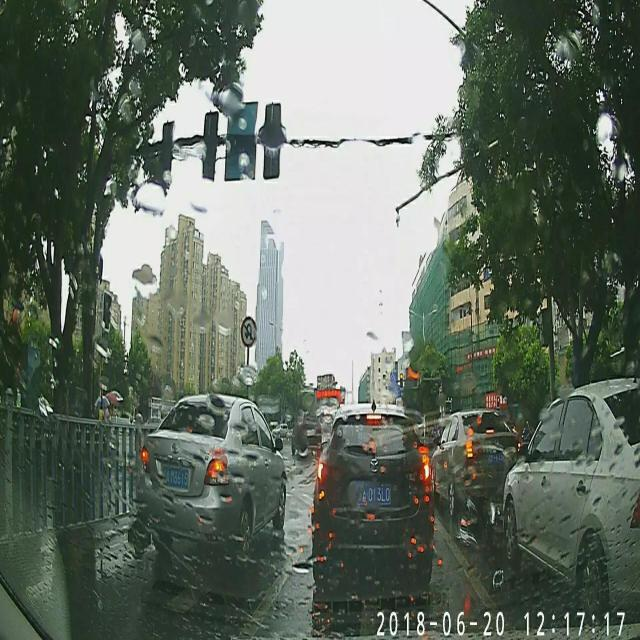car: (502, 372, 638, 625), (134, 393, 286, 569), (313, 402, 435, 596), (431, 407, 522, 520), (290, 411, 322, 459)
